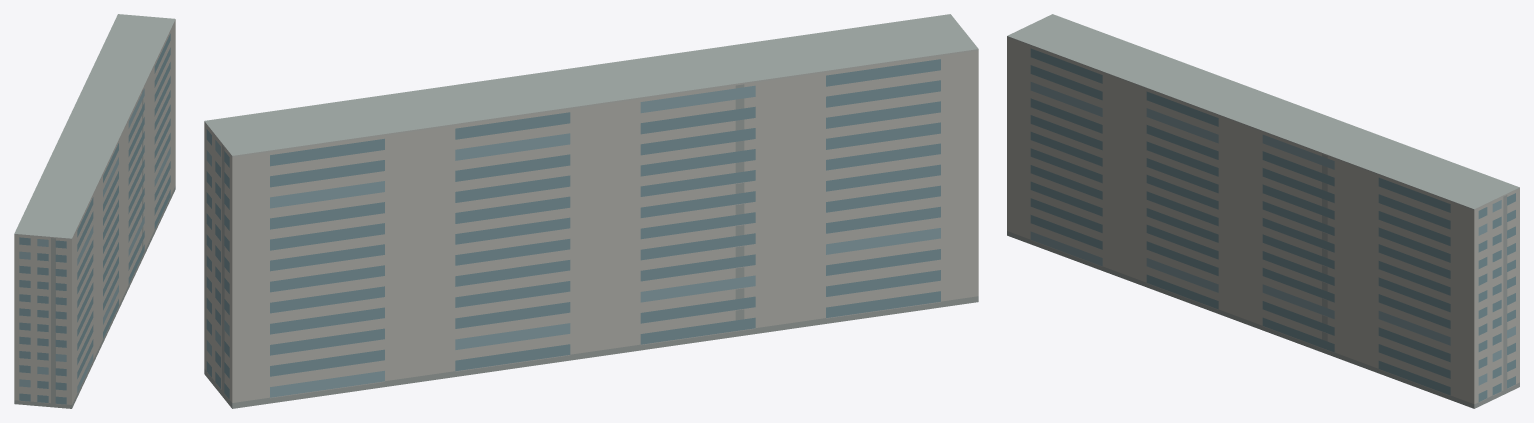
The model's file is residential-10412a63-9a10-47fe-aad7-bf1316588298.glb.
3 renders of one model, left to right at view 1: azimuth 30°, elevation 25°; view 2: azimuth 150°, elevation 25°; view 3: azimuth 270°, elevation 25°, orthographic. The views are drawn at different scales.
Parts seen in each view (by area): view 1: residential-10412a63-9a10-47fe-aad7-bf1316588298.tmp; view 2: residential-10412a63-9a10-47fe-aad7-bf1316588298.tmp; view 3: residential-10412a63-9a10-47fe-aad7-bf1316588298.tmp.
Boxes of the visible parts, x1=… form: residential-10412a63-9a10-47fe-aad7-bf1316588298.tmp: x1=14, y1=14, x2=175, y2=408; residential-10412a63-9a10-47fe-aad7-bf1316588298.tmp: x1=204, y1=14, x2=978, y2=408; residential-10412a63-9a10-47fe-aad7-bf1316588298.tmp: x1=1007, y1=14, x2=1519, y2=408.
Bounding box in the file's own units: 76.79 × 36.6 × 85.21.
